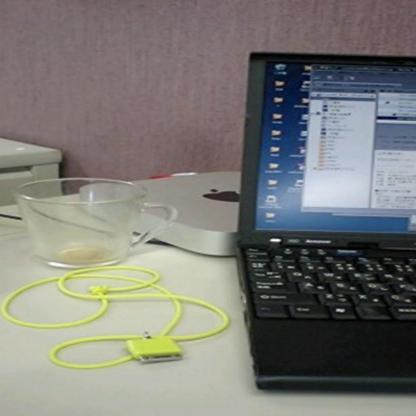board: (222, 55, 412, 391)
